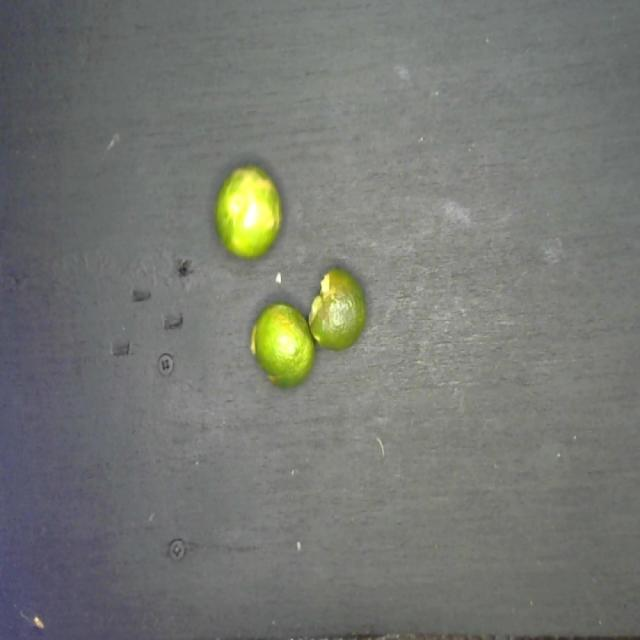biodegradable: (209, 150, 372, 398)
